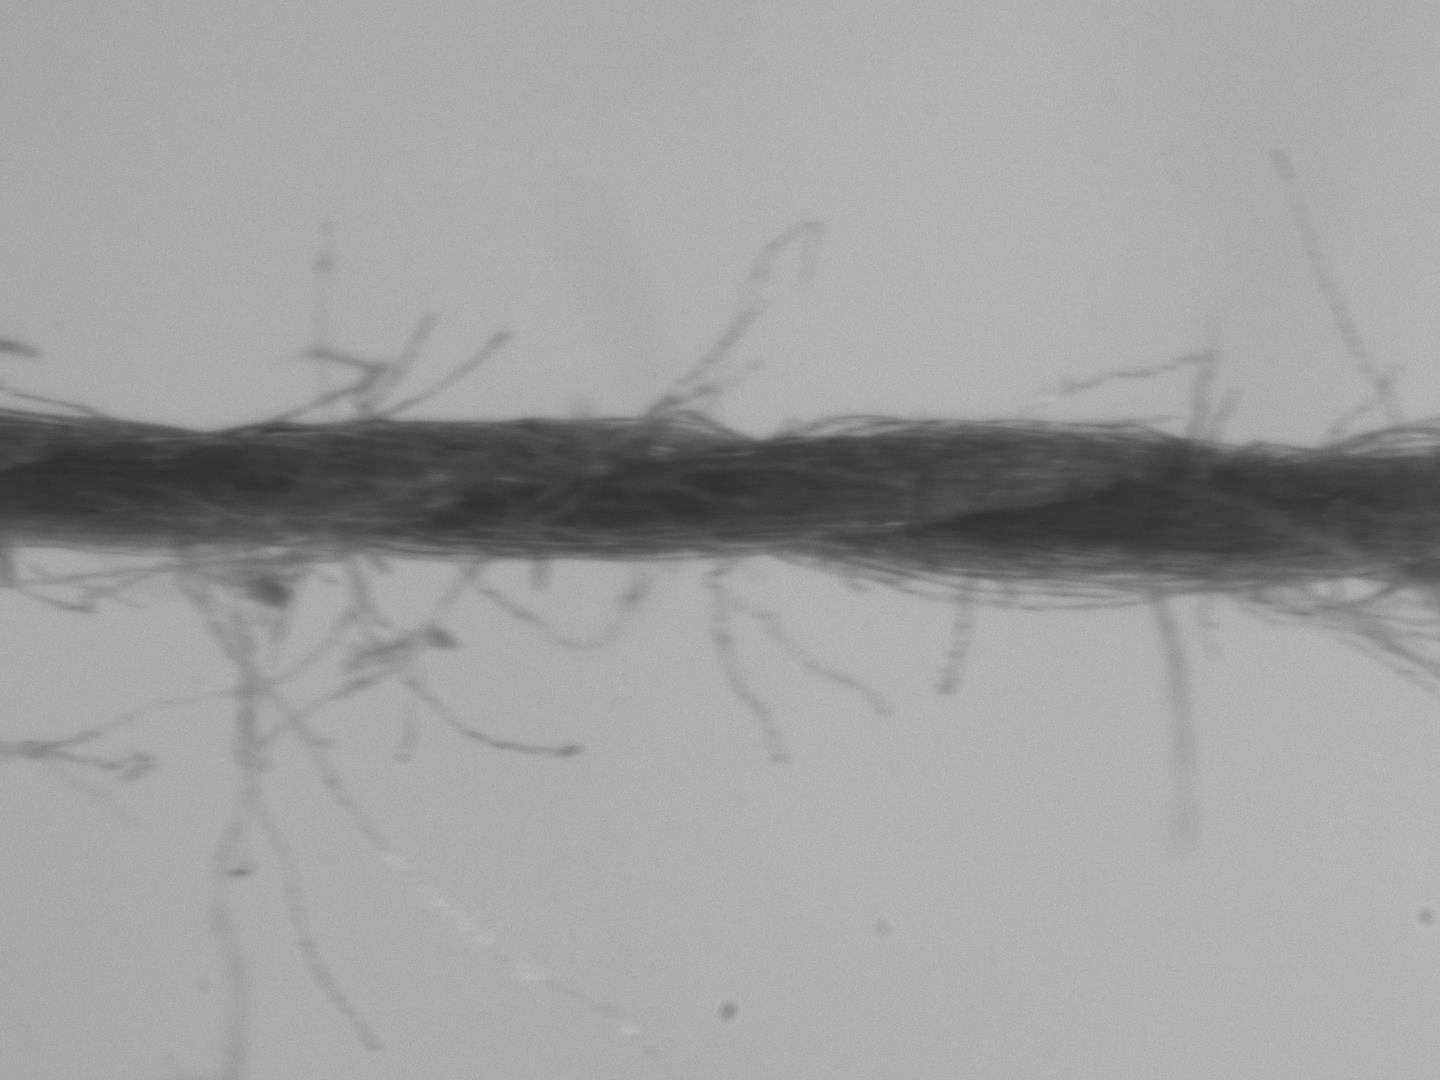loop_fiber: (795, 546, 1246, 614), (0, 534, 308, 622), (1223, 563, 1409, 628)
protruding_fiber: (166, 539, 671, 1077), (188, 535, 405, 1062), (0, 547, 391, 786), (337, 545, 599, 763), (170, 540, 272, 1077), (629, 216, 833, 419), (683, 552, 906, 722), (223, 203, 380, 423), (1255, 144, 1379, 399), (439, 550, 675, 661), (696, 554, 808, 777), (339, 318, 519, 430), (993, 351, 1218, 419), (1141, 576, 1196, 850), (346, 303, 450, 415), (1298, 356, 1417, 454), (660, 353, 781, 425), (1179, 321, 1234, 444), (938, 576, 986, 708), (1217, 372, 1250, 445)
